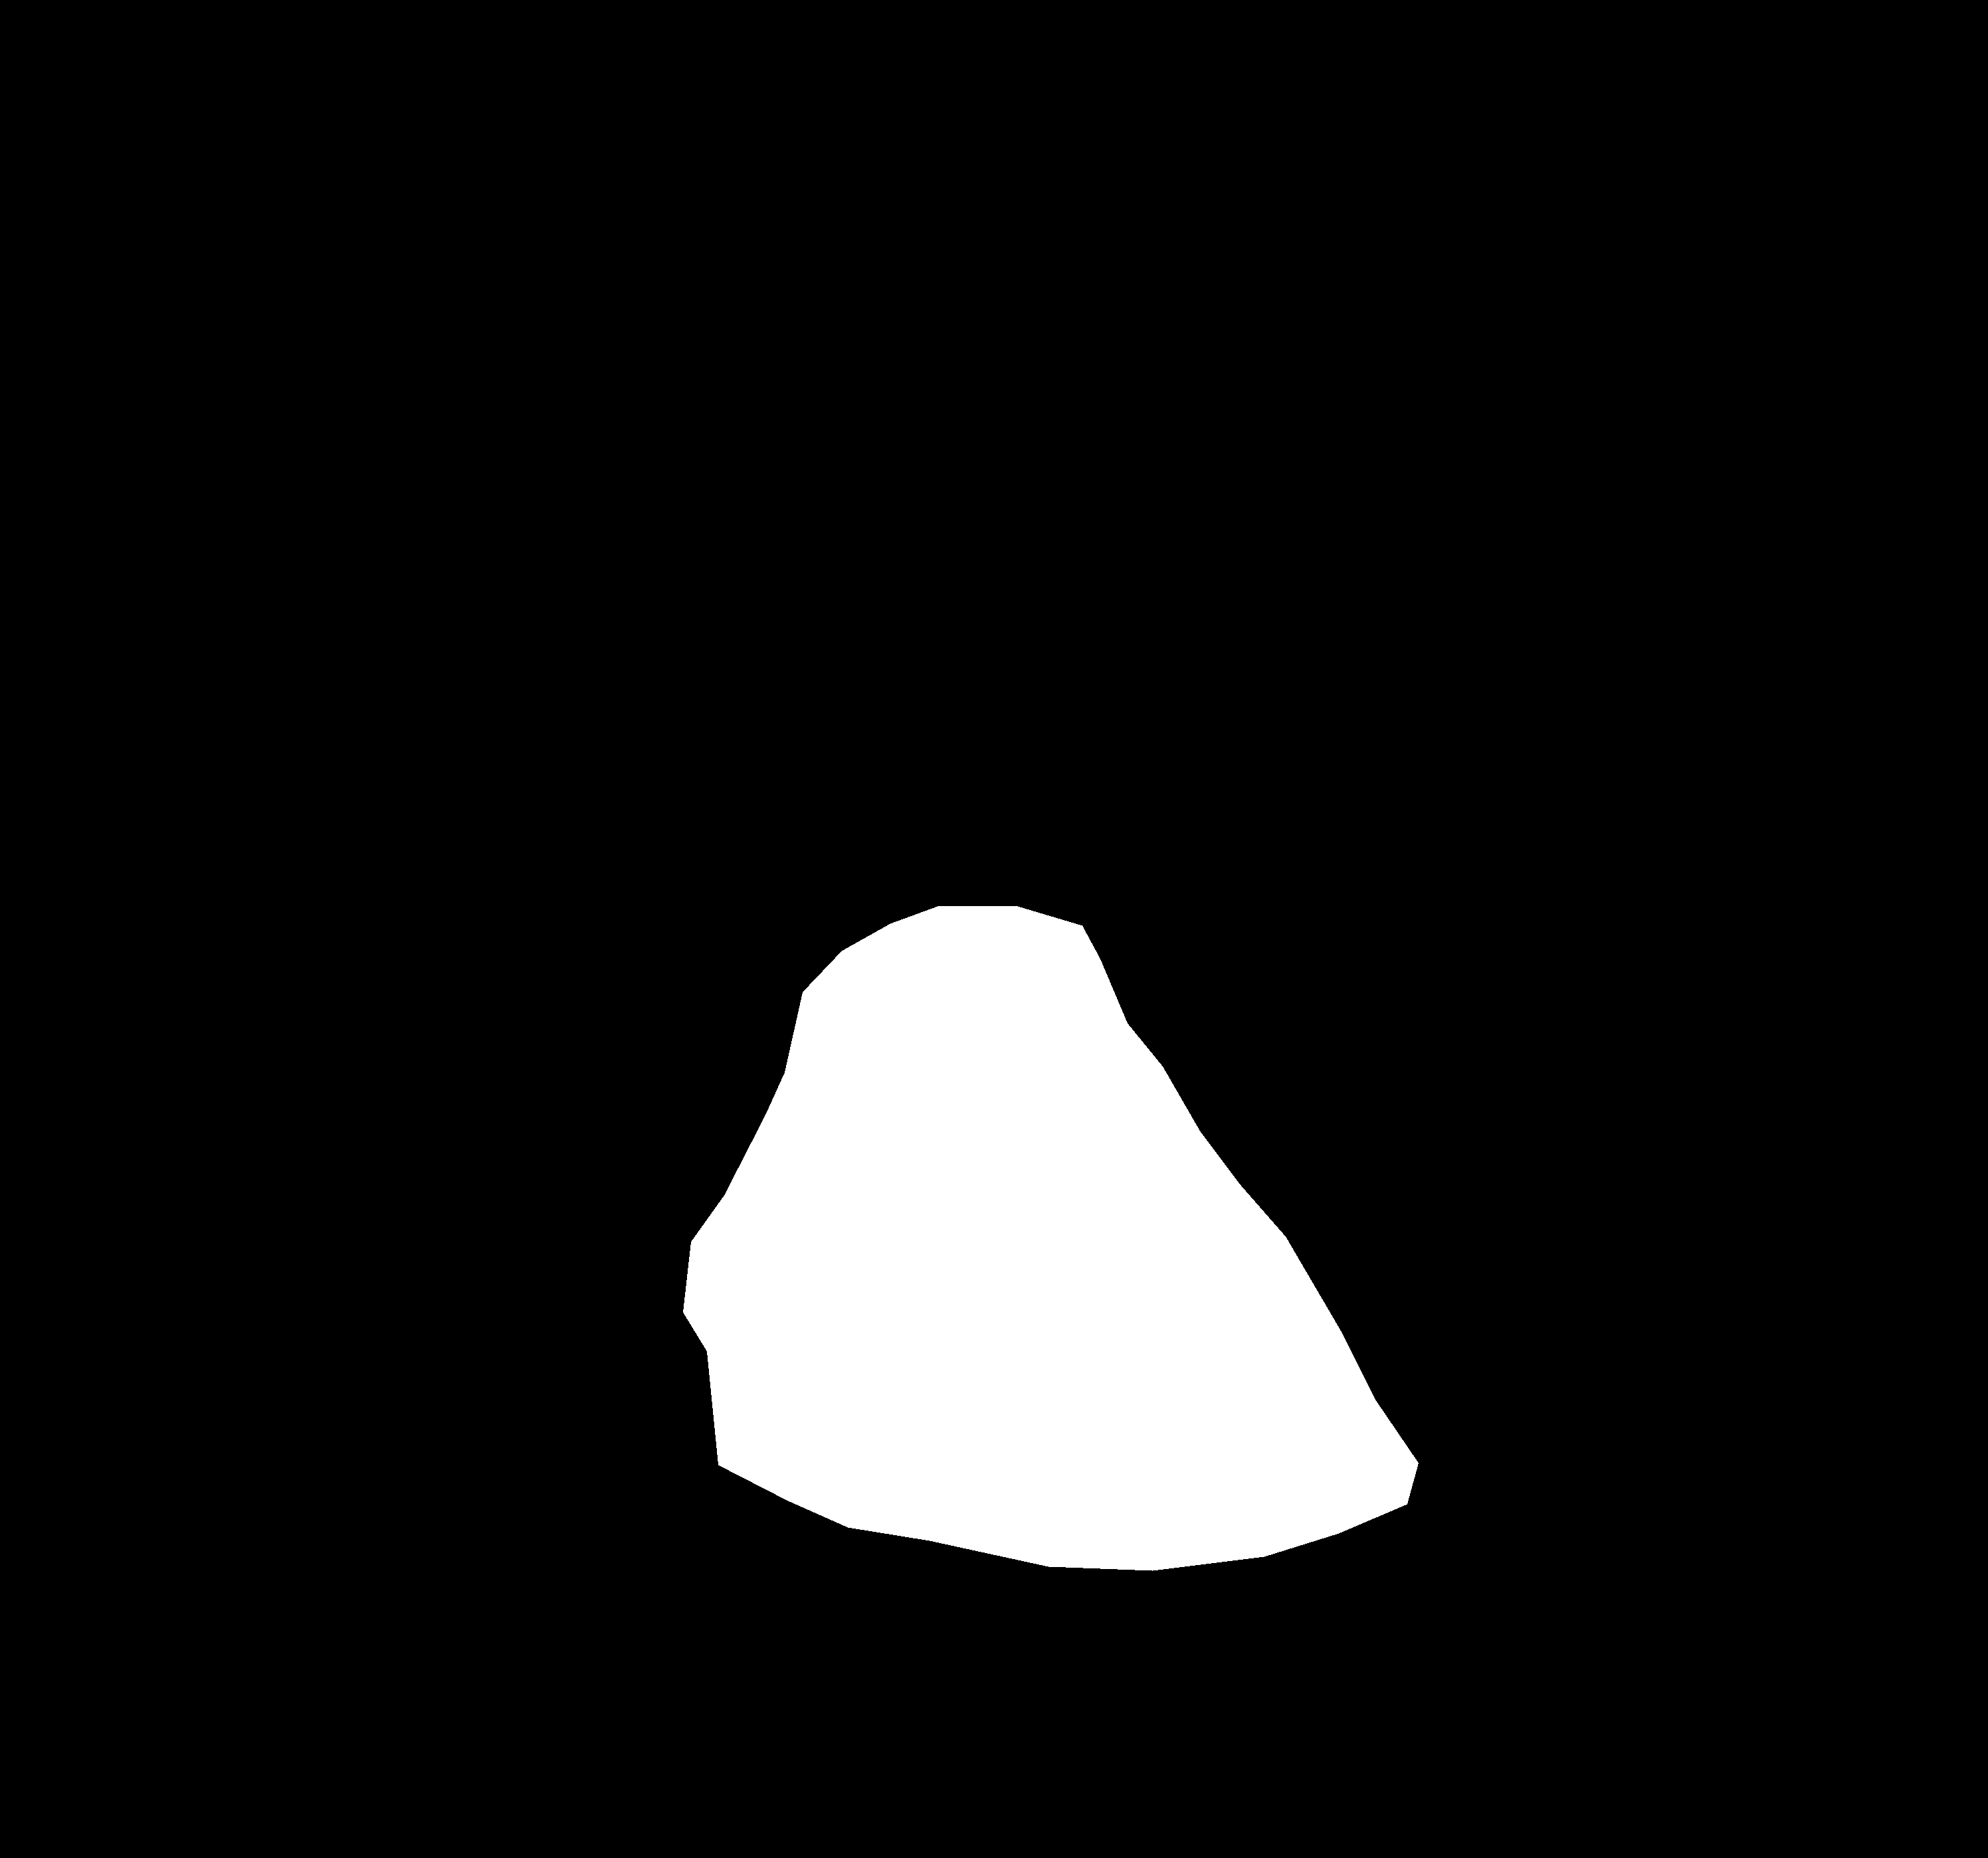heart: (683, 906, 1419, 1570)
left_lung: (108, 375, 919, 1685)
right_lung: (1080, 325, 1764, 1673)
